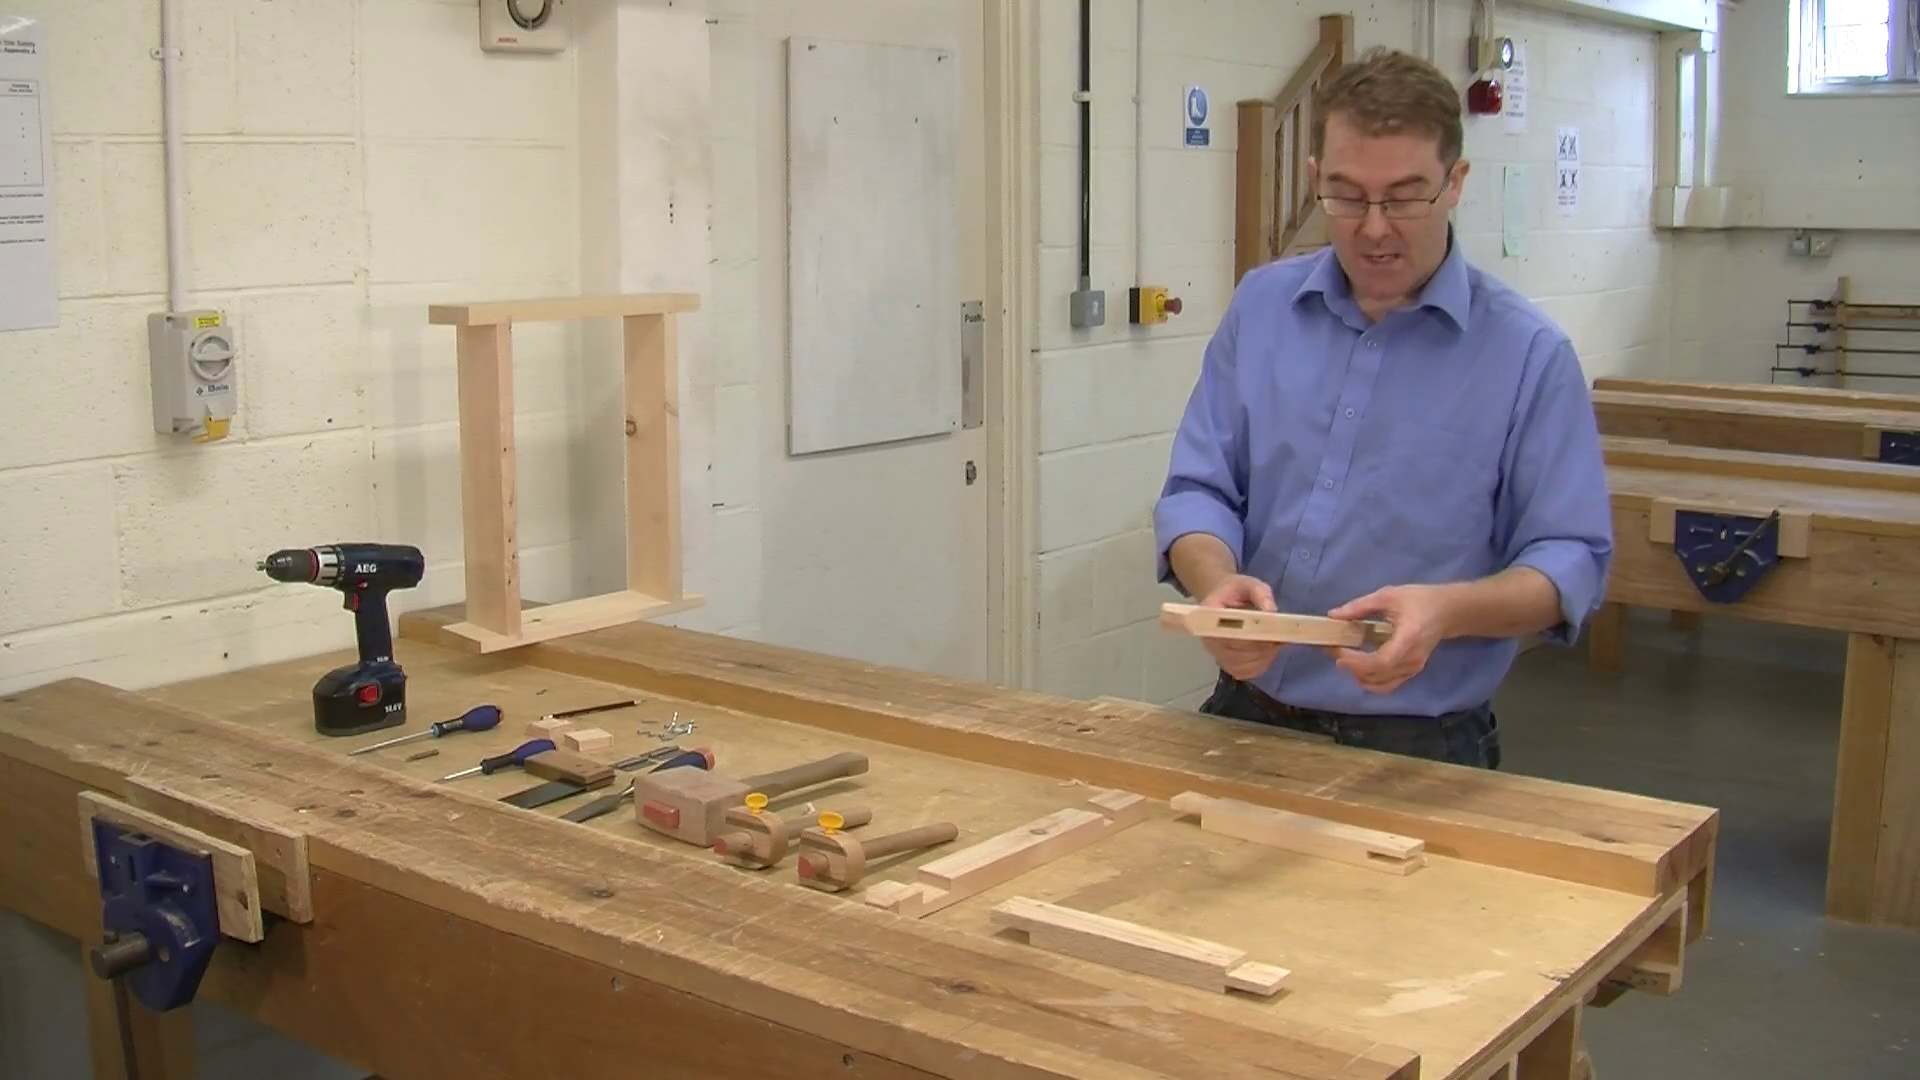person: (1148, 51, 1612, 771)
